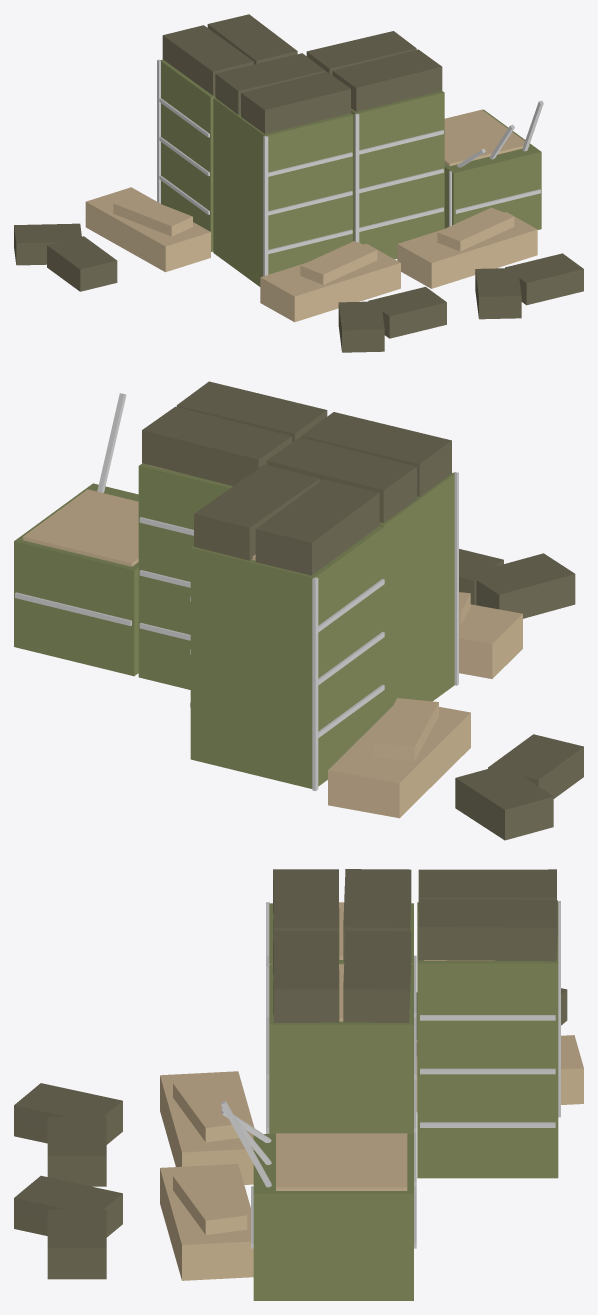
The model's file is SM_HescoRemate_v3_RemateSacos_e1_Danado_LOD0.fbx.
The picture shows the model from 3 angles, top to bottom: view 1: azimuth 30°, elevation 25°; view 2: azimuth 150°, elevation 25°; view 3: azimuth 270°, elevation 25°; orthographic projection. The views are drawn at different scales.
Visible parts, largest first — view 1: SM_hesco_piezas_v33_LOD0; view 2: SM_hesco_piezas_v33_LOD0; view 3: SM_hesco_piezas_v33_LOD0.
Boxes of the visible parts, x1,y1,x2,y2 form: SM_hesco_piezas_v33_LOD0: (14,14,583,352); SM_hesco_piezas_v33_LOD0: (14,381,583,840); SM_hesco_piezas_v33_LOD0: (14,869,583,1300).
Size of the model in its own units: 5.25 by 2.09 by 4.33.
